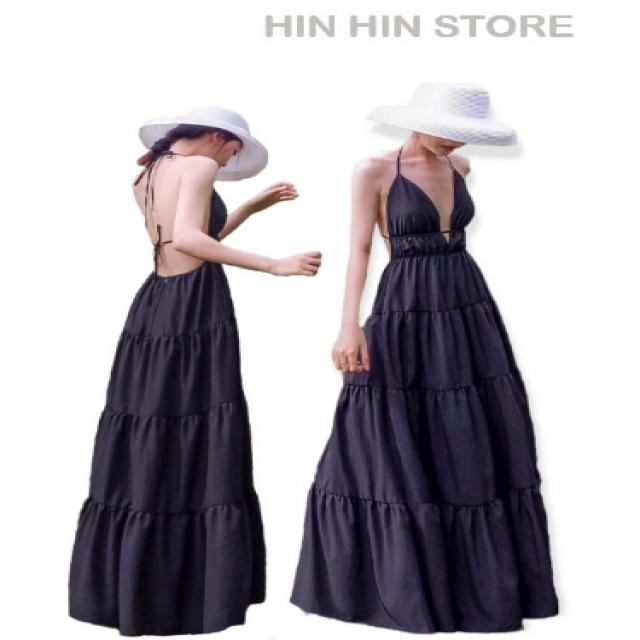clothes: (305, 148, 557, 633), (72, 161, 272, 631)
